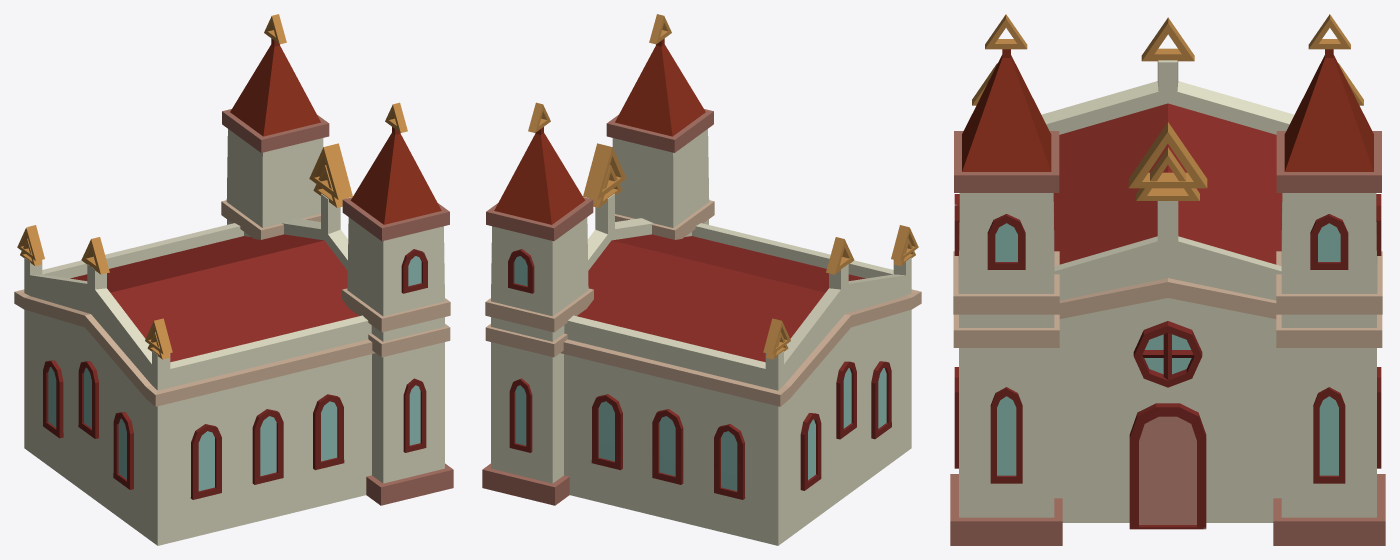
The model's file is IgrejaInteira.fbx.
3 views of the same model, side by side, from view 1: azimuth 30°, elevation 25°; view 2: azimuth 150°, elevation 25°; view 3: azimuth 270°, elevation 25° (orthographic). The views are drawn at different scales.
Visible parts, largest first — view 1: I_Inteira; view 2: I_Inteira; view 3: I_Inteira.
Boxes of the visible parts, x1,y1,x2,y2 form: I_Inteira: [14, 14, 453, 545]; I_Inteira: [482, 14, 921, 545]; I_Inteira: [950, 14, 1385, 545].
Size of the model in its own units: 1359 by 1718 by 1332.
